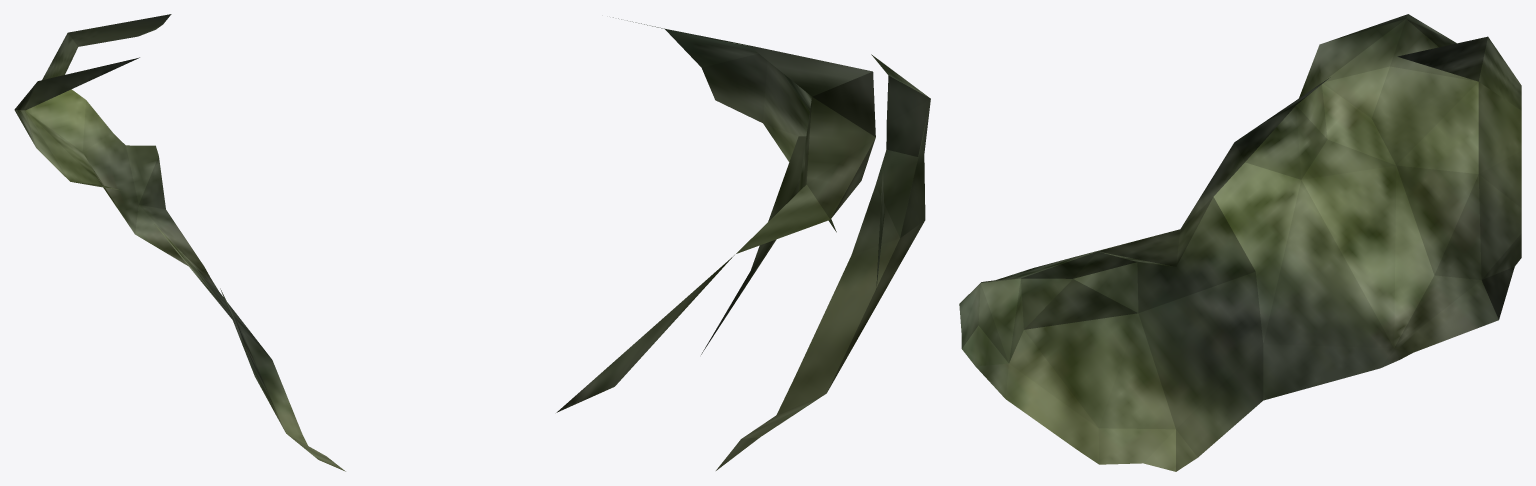
The picture shows the model from 3 angles, left to right: view 1: azimuth 30°, elevation 25°; view 2: azimuth 150°, elevation 25°; view 3: azimuth 270°, elevation 25°; orthographic projection. The views are drawn at different scales.
Bounding box in the file's own units: 0.4932 × 0.8339 × 1.12.
1 material, 1 textured.
